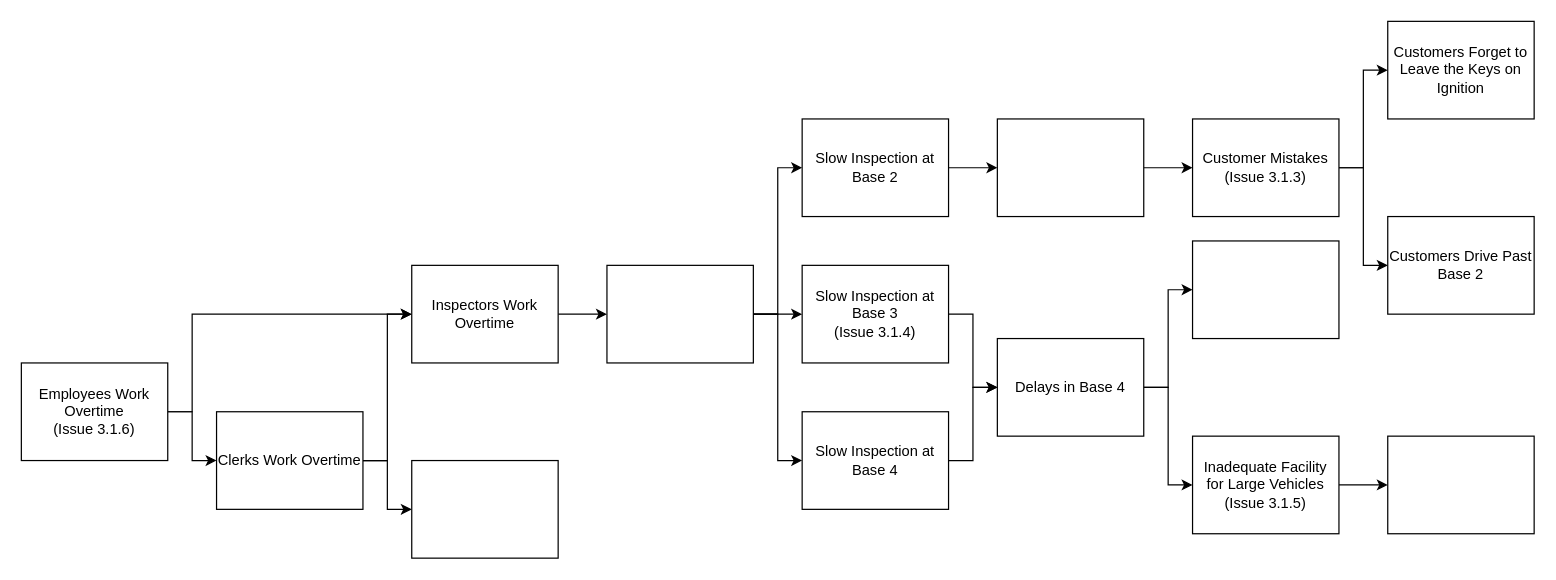
The diagram is 1556 pixels wide and 580 high, and some of its shapes have lost their labels. The box of each missing label's shape, as (x1, y1, x2, y2) in pixels:
Bases Take T oo Long: (606, 264, 753, 363)
Clerks Must Record Inspection Documents on Insp ection Day: (411, 459, 558, 558)
Delays in Base 2: (996, 118, 1144, 217)
Hoists Too Small to Accommodate Some Larger Vehicles: (1387, 435, 1534, 534)
Slow Inspection Process: (1191, 240, 1339, 339)
